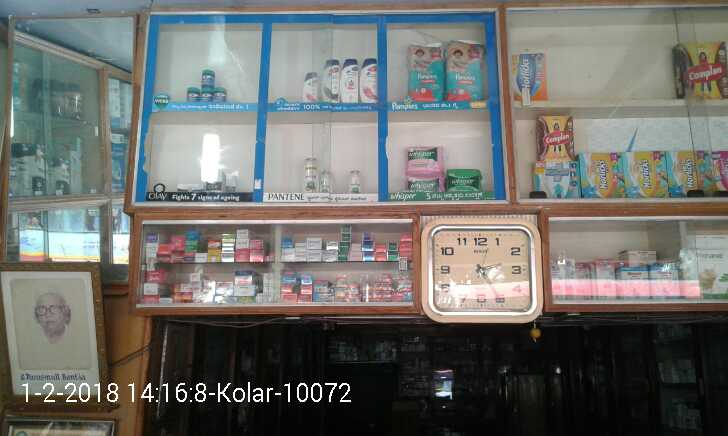beauty: (320, 56, 342, 102), (360, 59, 380, 104), (342, 55, 361, 101), (202, 165, 226, 198), (302, 70, 321, 102), (303, 157, 316, 192), (317, 168, 334, 192), (348, 168, 363, 191)
pharmacy: (406, 44, 450, 98), (448, 43, 487, 103), (442, 163, 485, 197), (407, 143, 442, 171), (405, 172, 440, 194), (200, 65, 216, 88), (216, 81, 228, 102), (187, 84, 200, 102), (202, 90, 215, 104)
